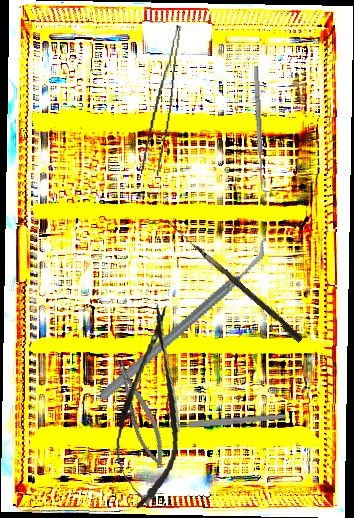Chopper: (69, 238, 298, 402)
Hook Surgical: (159, 218, 306, 344), (251, 65, 271, 193)
Micro Scissor: (107, 300, 194, 513)
Needle Holder: (111, 356, 171, 472)
Scalpel Handle: (167, 412, 287, 431)
Tissue Forceps: (140, 23, 182, 177)
